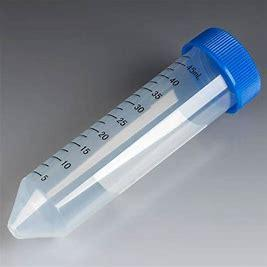Test tube: (27, 25, 255, 247)
